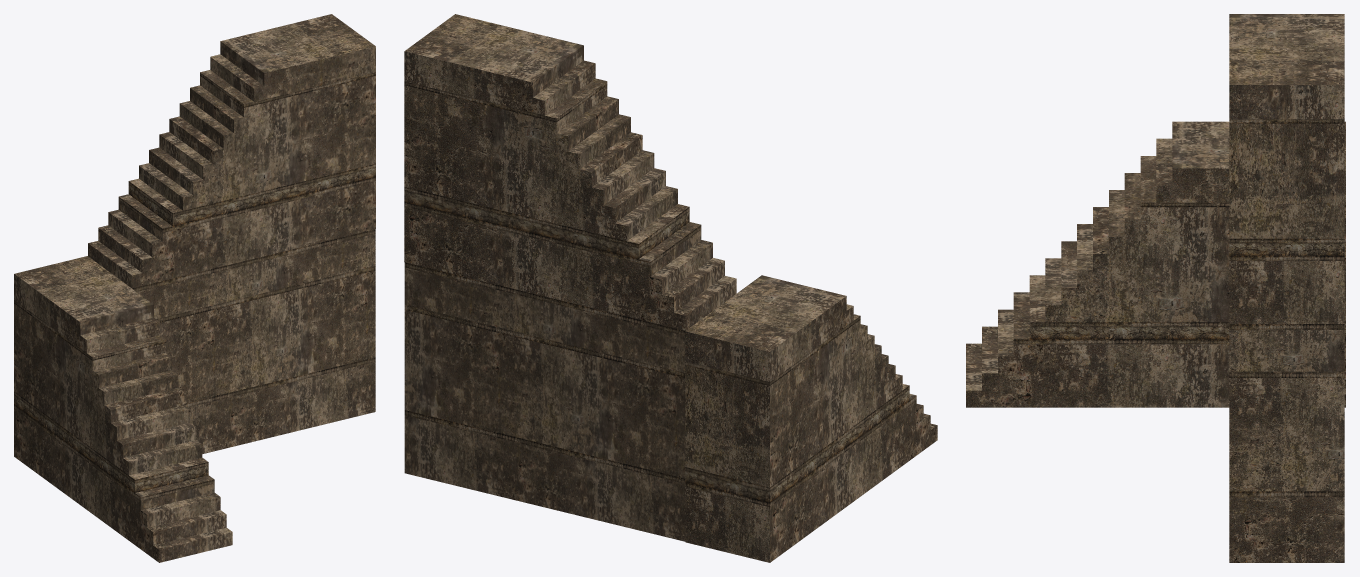
File: materials_5_stairblock_13.fbx
The picture shows the model from 3 angles, left to right: view 1: azimuth 30°, elevation 25°; view 2: azimuth 150°, elevation 25°; view 3: azimuth 270°, elevation 25°; orthographic projection. The views are drawn at different scales.
Visible parts, largest first — view 1: materials_5_stairblock_13; view 2: materials_5_stairblock_13; view 3: materials_5_stairblock_13.
Boxes of the visible parts, <box> form: materials_5_stairblock_13: <box>14,14,375,562</box>; materials_5_stairblock_13: <box>404,14,937,562</box>; materials_5_stairblock_13: <box>966,14,1345,562</box>.
Size of the model in its own units: 481 by 529 by 381.
